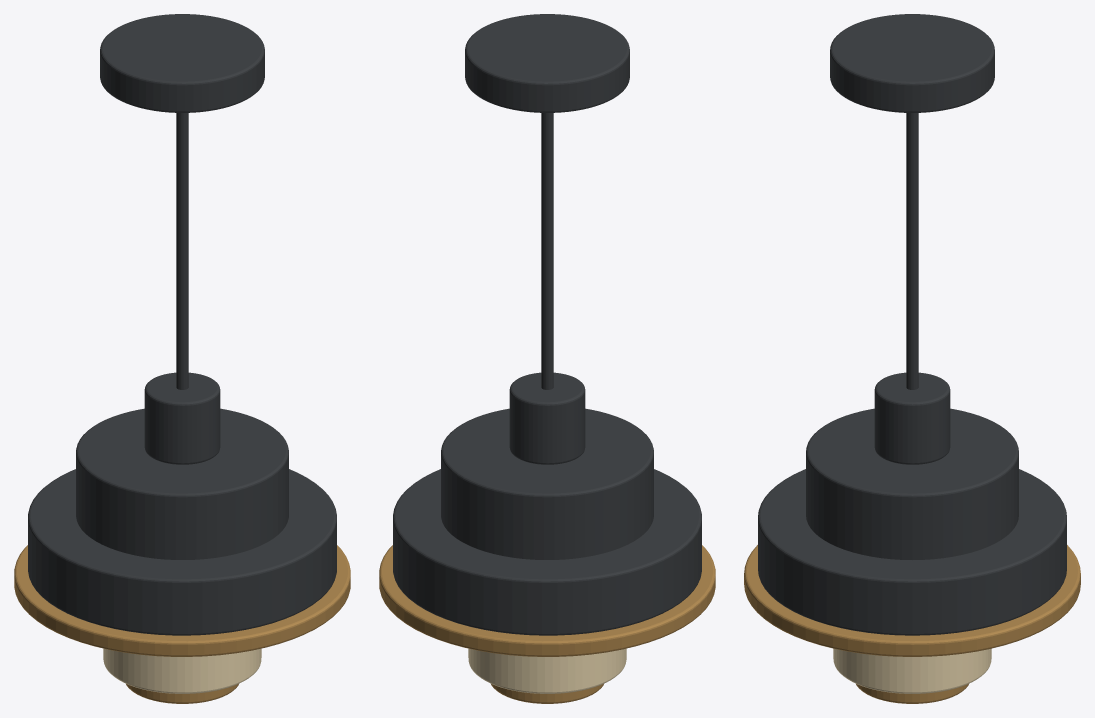
Rendered from cafe-pendant-lamp-01--wide-shade.glb.
3 renders of one model, left to right at view 1: azimuth 30°, elevation 25°; view 2: azimuth 150°, elevation 25°; view 3: azimuth 270°, elevation 25°, orthographic.
Parts seen in each view (by area): view 1: cafe-pendant-lamp-01--wide-shade; view 2: cafe-pendant-lamp-01--wide-shade; view 3: cafe-pendant-lamp-01--wide-shade.
Part boxes in pixels (x1,y1,x2,y2): cafe-pendant-lamp-01--wide-shade: [14, 14, 350, 703]; cafe-pendant-lamp-01--wide-shade: [379, 14, 715, 703]; cafe-pendant-lamp-01--wide-shade: [744, 14, 1080, 703].
Bounding box in the file's own units: 0.49 × 1.01 × 0.49.
